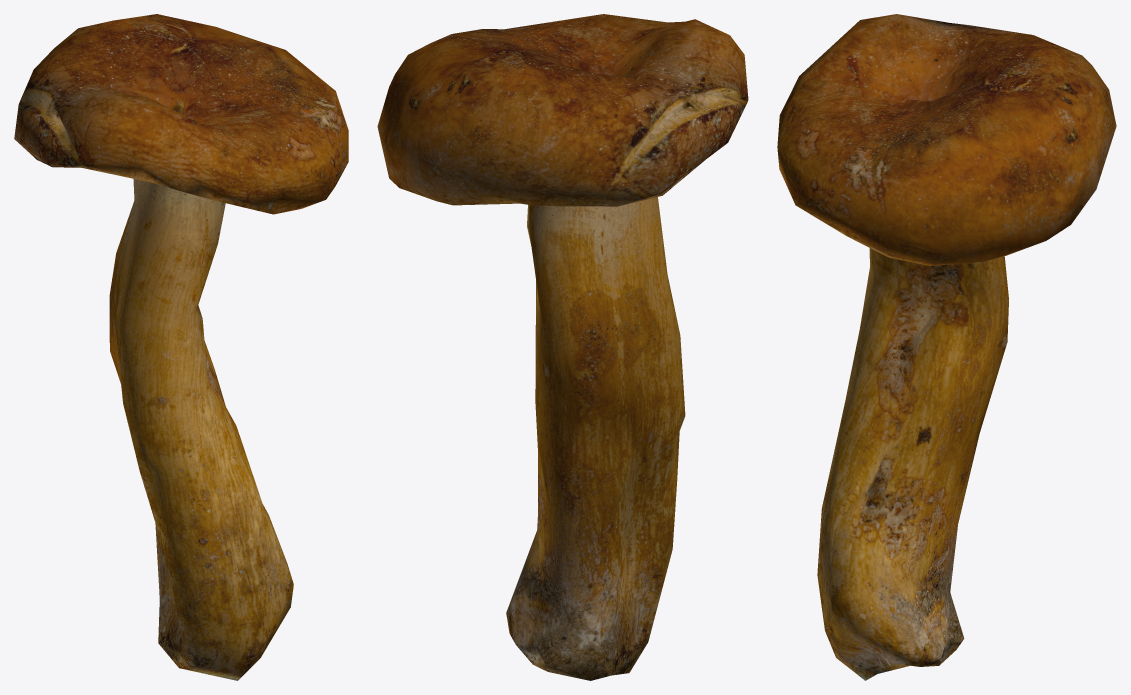
The model's file is AD_Mushroom_05_LOD5.fbx.
3 renders of one model, left to right at view 1: azimuth 30°, elevation 25°; view 2: azimuth 150°, elevation 25°; view 3: azimuth 270°, elevation 25°, orthographic. The views are drawn at different scales.
Visible parts, largest first — view 1: AD_Mushroom_05_LOD5; view 2: AD_Mushroom_05_LOD5; view 3: AD_Mushroom_05_LOD5.
Part boxes in pixels (left/top/right/bottom): AD_Mushroom_05_LOD5: left=14, top=14, right=348, bottom=680; AD_Mushroom_05_LOD5: left=377, top=14, right=748, bottom=680; AD_Mushroom_05_LOD5: left=777, top=14, right=1116, bottom=680.
Bounding box in the file's own units: 6.59 × 12.98 × 6.5.
